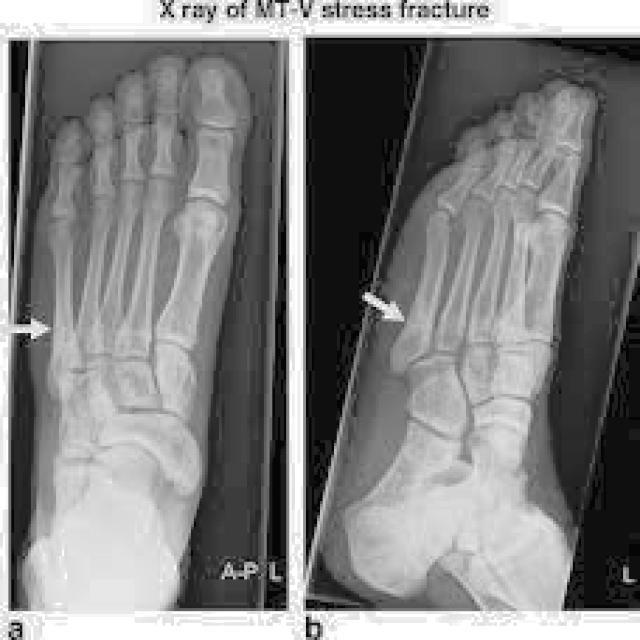HairLine Fracture: (407, 308, 429, 336), (52, 317, 75, 338)
